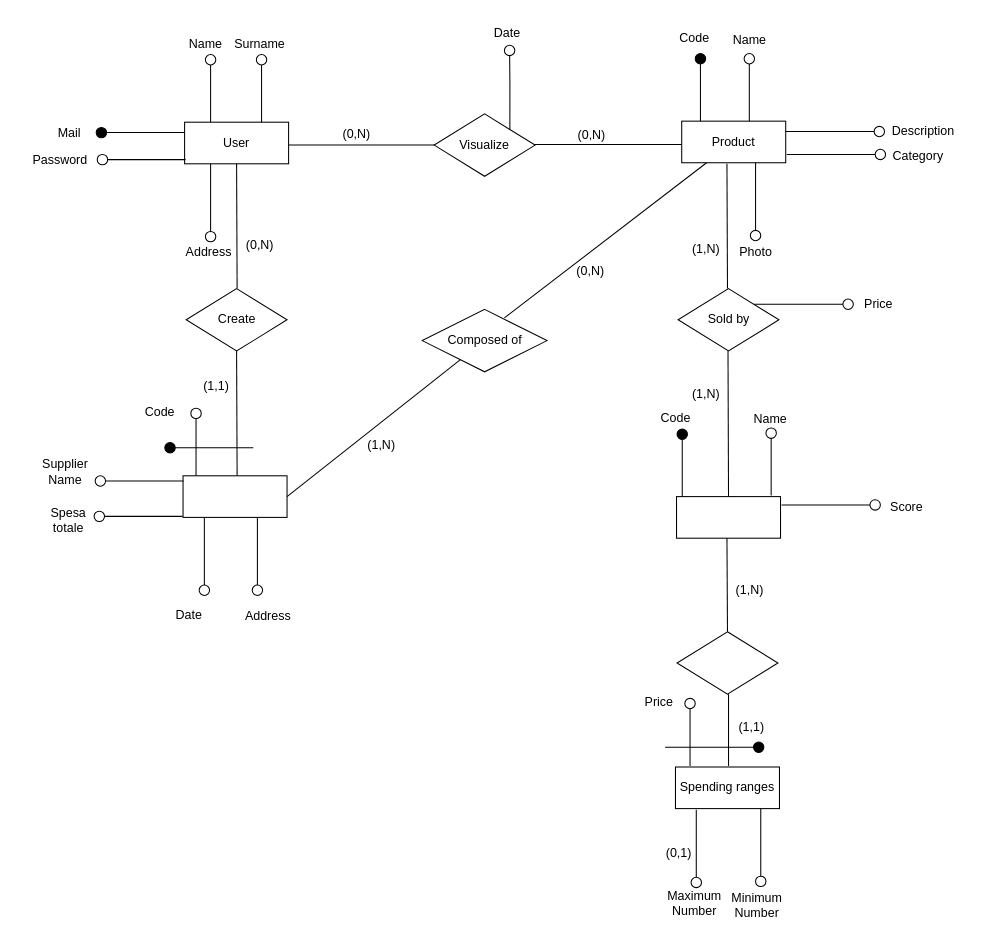
Some shapes in this 982 by 943 pixel diagram are drawn without their labels. The box of each missing label's shape, as (x1, y1, x2, y2) in pixels:
Order: (182, 475, 287, 517)
Supplier: (675, 496, 781, 538)
Take: (676, 631, 778, 694)
